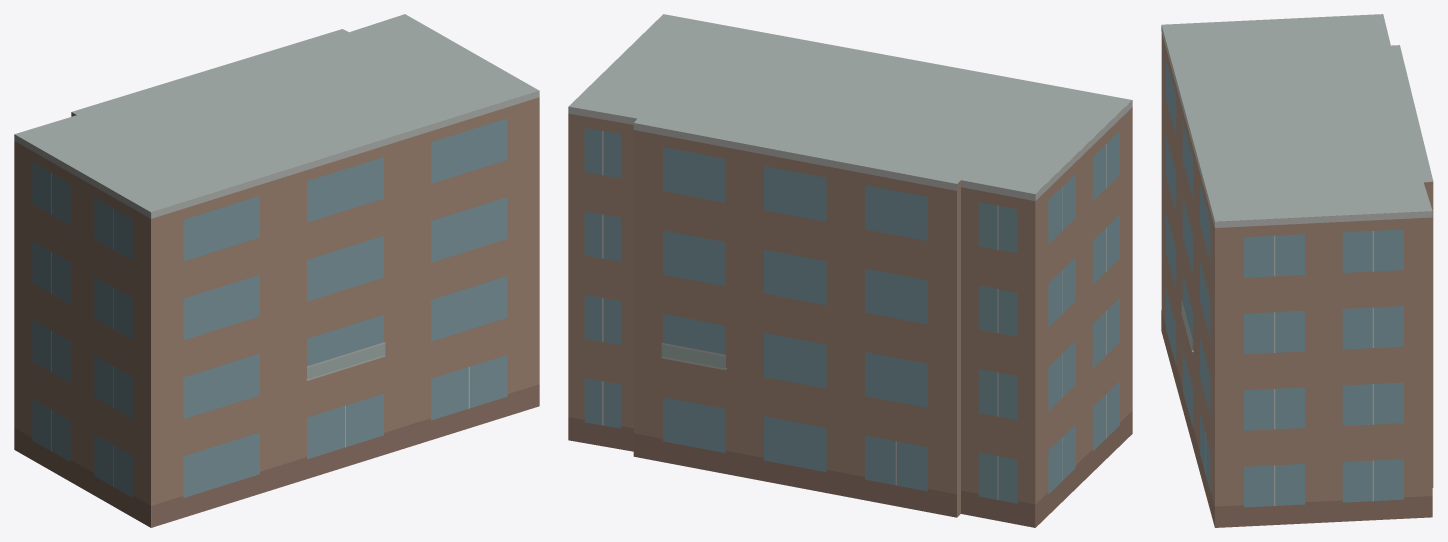
Rendered from survey-upis-32730074.glb.
The picture shows the model from 3 angles, left to right: view 1: azimuth 30°, elevation 25°; view 2: azimuth 150°, elevation 25°; view 3: azimuth 270°, elevation 25°; orthographic projection. The views are drawn at different scales.
Visible parts, largest first — view 1: survey-upis-32730074.tmp; view 2: survey-upis-32730074.tmp; view 3: survey-upis-32730074.tmp.
Boxes of the visible parts, x1=… form: survey-upis-32730074.tmp: x1=14, y1=14, x2=539, y2=527; survey-upis-32730074.tmp: x1=568, y1=14, x2=1132, y2=527; survey-upis-32730074.tmp: x1=1161, y1=14, x2=1433, y2=527.
Size of the model in its own units: 17.03 by 11.7 by 9.43.
